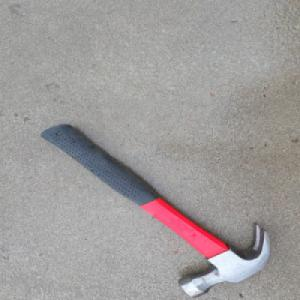Hammer: (39, 123, 268, 279)
